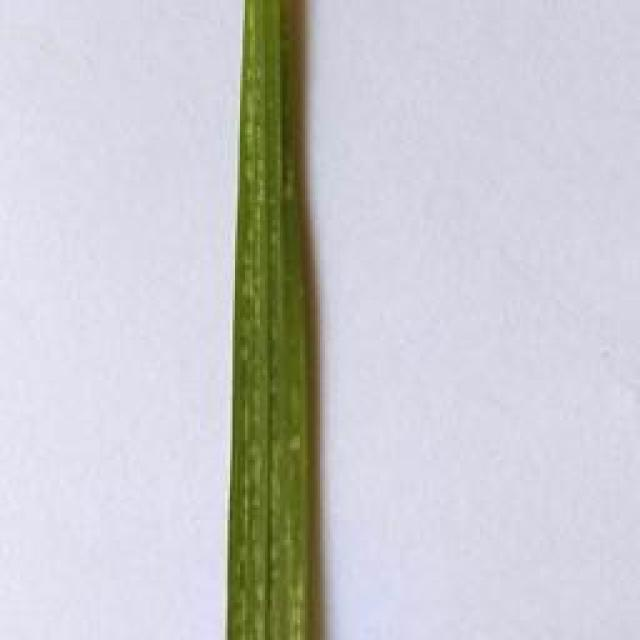Bacterial_Blight: (215, 4, 358, 640)
